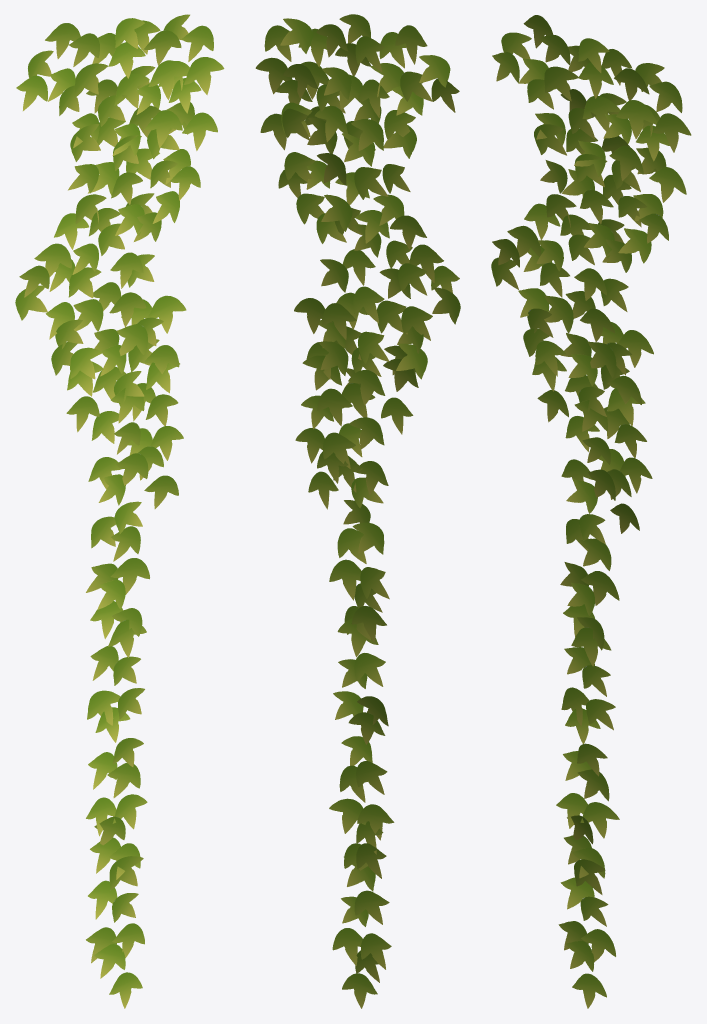
Rendered from ivy_4.fbx.
3 renders of one model, left to right at view 1: azimuth 30°, elevation 25°; view 2: azimuth 150°, elevation 25°; view 3: azimuth 330°, elevation 25°, orthographic. The views are drawn at different scales.
Parts seen in each view (by area): view 1: Plane.169; view 2: Plane.169; view 3: Plane.169.
Boxes of the visible parts, x1=… form: Plane.169: x1=15, y1=14, x2=224, y2=1008; Plane.169: x1=255, y1=14, x2=460, y2=1008; Plane.169: x1=491, y1=15, x2=691, y2=1008.
Bounding box in the file's own units: 215 × 981 × 15.99.
